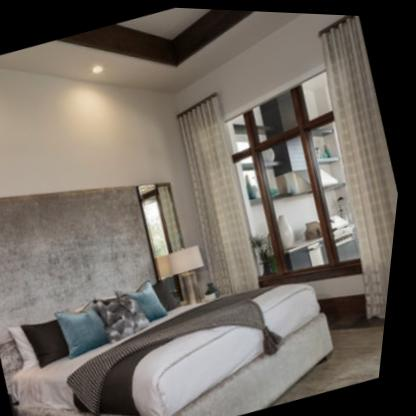Bed: (0, 223, 358, 416)
Curtains: (318, 12, 402, 317), (179, 94, 266, 298)
